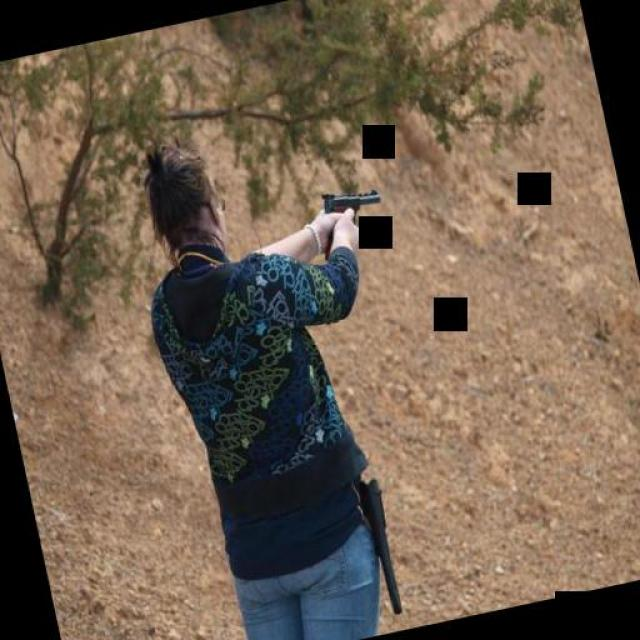gun: (310, 174, 392, 241)
